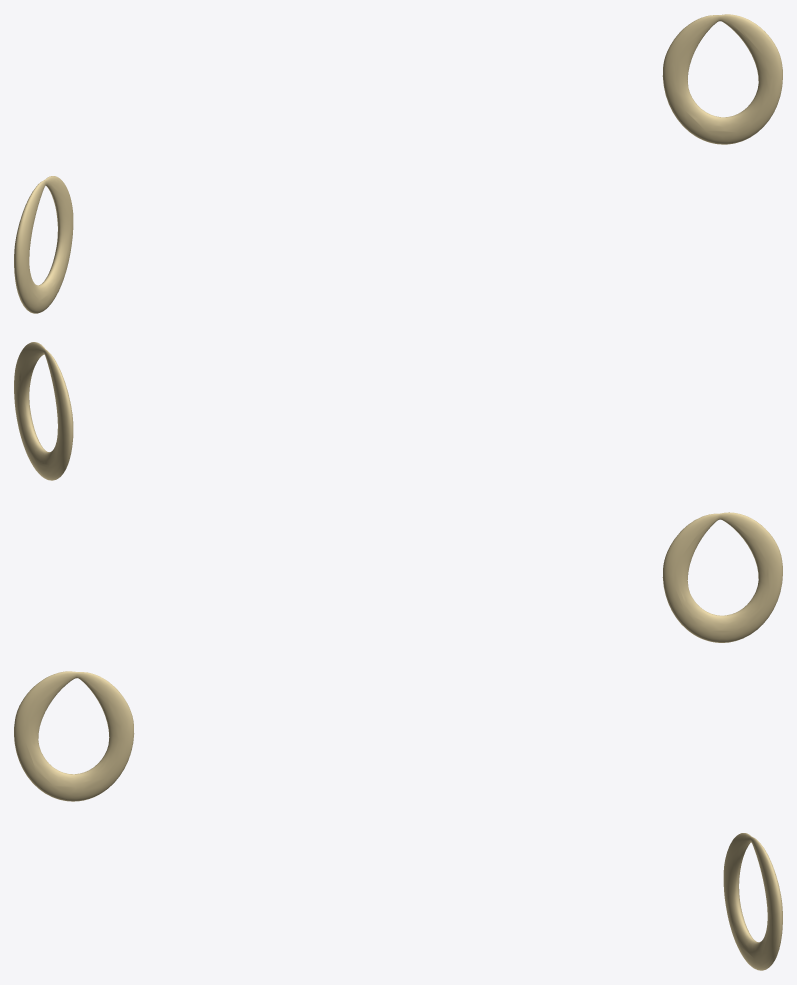
The model's file is earrings-earrings-6d47d753.glb.
The picture shows the model from 3 angles, top to bottom: view 1: azimuth 30°, elevation 25°; view 2: azimuth 150°, elevation 25°; view 3: azimuth 330°, elevation 25°; orthographic projection.
Visible parts, largest first — view 1: Geo_Female_Black_Earrings.001; view 2: Geo_Female_Black_Earrings.001; view 3: Geo_Female_Black_Earrings.001.
Part boxes in pixels (x1=…): Geo_Female_Black_Earrings.001: x1=14, y1=14, x2=782, y2=313; Geo_Female_Black_Earrings.001: x1=14, y1=342, x2=782, y2=642; Geo_Female_Black_Earrings.001: x1=14, y1=671, x2=782, y2=970.
Bounding box in the file's own units: 1.5 × 0.2433 × 0.1163.
